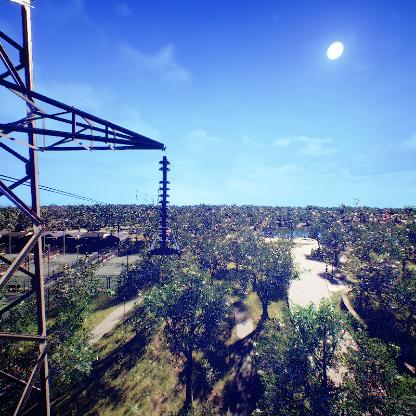insulator: (156, 159, 173, 250)
